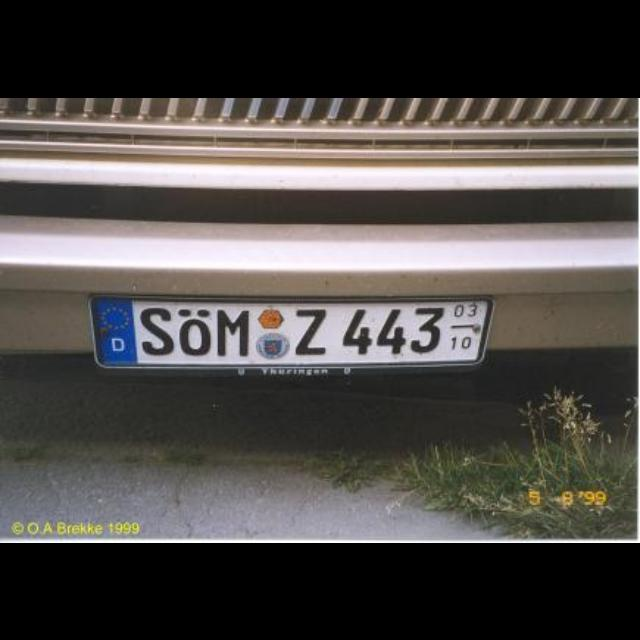d_license_plate: (91, 297, 486, 363)
